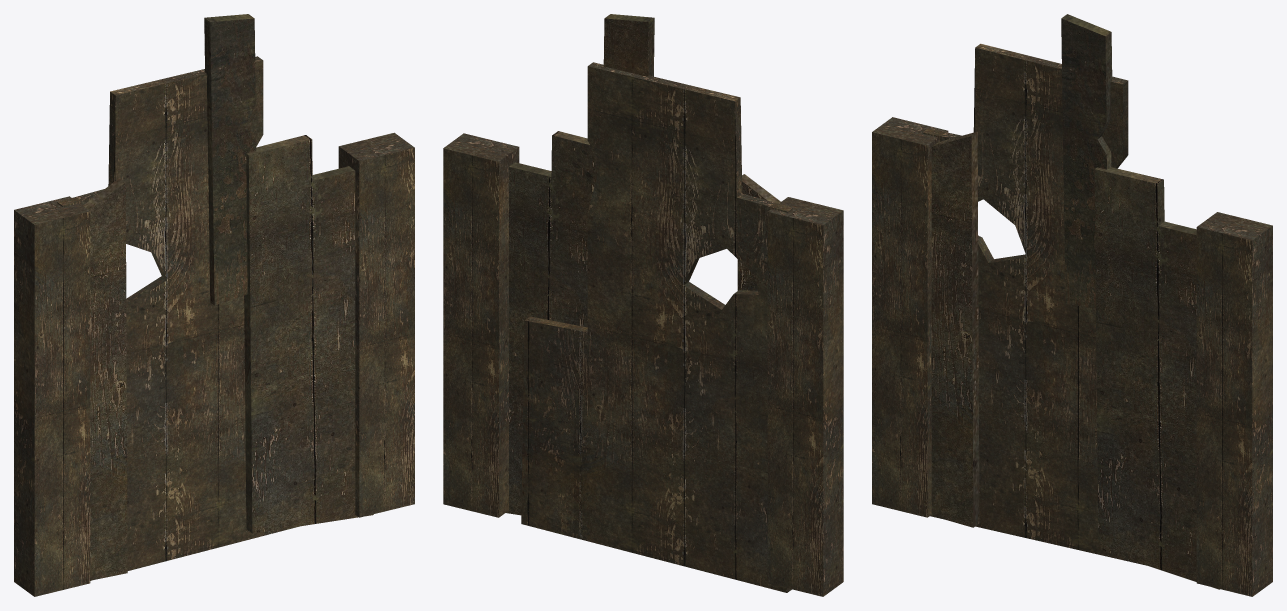
Rendered from wood1.fbx.
The picture shows the model from 3 angles, left to right: view 1: azimuth 30°, elevation 25°; view 2: azimuth 150°, elevation 25°; view 3: azimuth 330°, elevation 25°; orthographic projection.
Visible parts, largest first — view 1: woodwall3; view 2: woodwall3; view 3: woodwall3.
Part boxes in pixels (x1,y1,x2,y2): woodwall3: (14, 14, 414, 596); woodwall3: (443, 14, 843, 596); woodwall3: (872, 14, 1272, 596).
Bounding box in the file's own units: 507 × 681 × 47.4.
1 material, 1 textured.
